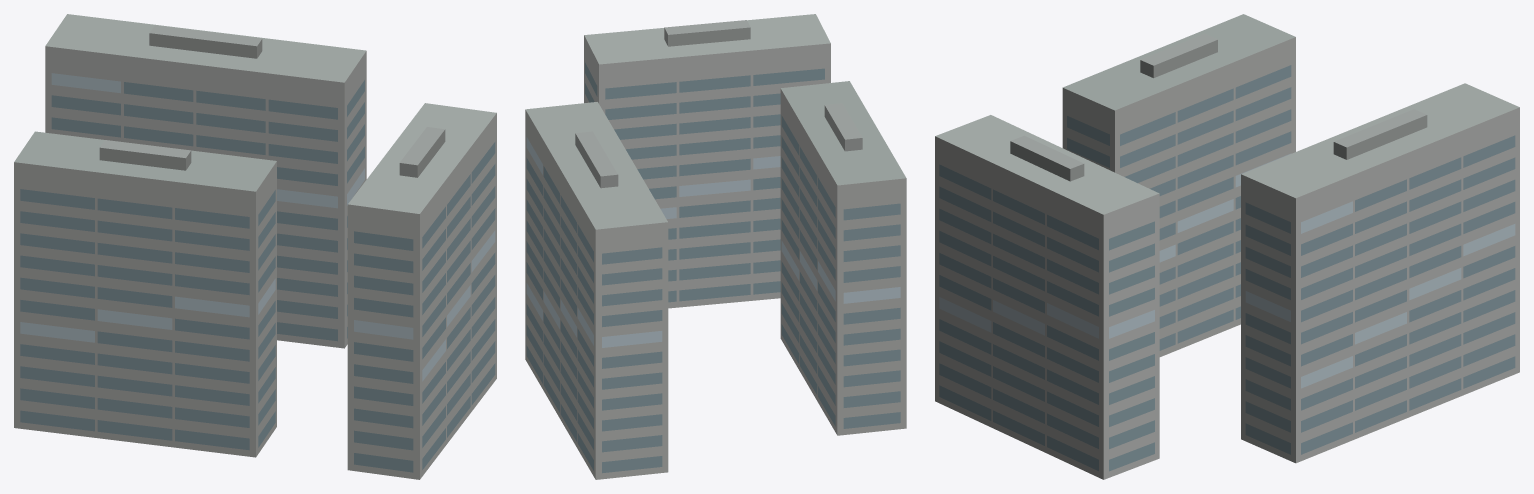
Rendered from apt-a10023569.glb.
The picture shows the model from 3 angles, left to right: view 1: azimuth 30°, elevation 25°; view 2: azimuth 150°, elevation 25°; view 3: azimuth 270°, elevation 25°; orthographic projection. The views are drawn at different scales.
Parts seen in each view (by area): view 1: apt-a10023569; view 2: apt-a10023569; view 3: apt-a10023569.
Part boxes in pixels (<box>): apt-a10023569: <box>14,14,496,479</box>; apt-a10023569: <box>525,14,906,479</box>; apt-a10023569: <box>935,14,1519,479</box>.
Size of the model in its own units: 58.96 by 38 by 72.56.
